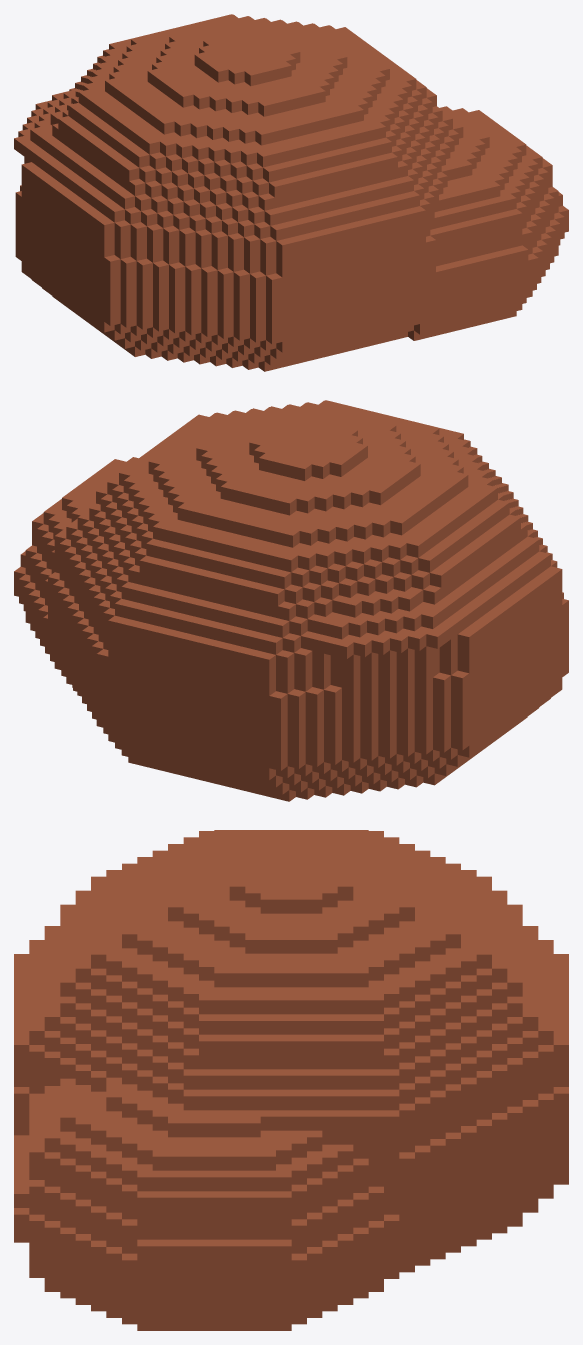
Rendered from clay_lump.glb.
The picture shows the model from 3 angles, top to bottom: view 1: azimuth 30°, elevation 25°; view 2: azimuth 150°, elevation 25°; view 3: azimuth 270°, elevation 25°; orthographic projection. The views are drawn at different scales.
Parts seen in each view (by area): view 1: clay_lump:compound; view 2: clay_lump:compound; view 3: clay_lump:compound.
Part boxes in pixels (x1,y1,x2,y2): clay_lump:compound: (14,14,568,371); clay_lump:compound: (14,400,568,801); clay_lump:compound: (14,830,568,1330).
Size of the model in its own units: 0.086 by 0.044 by 0.072.
